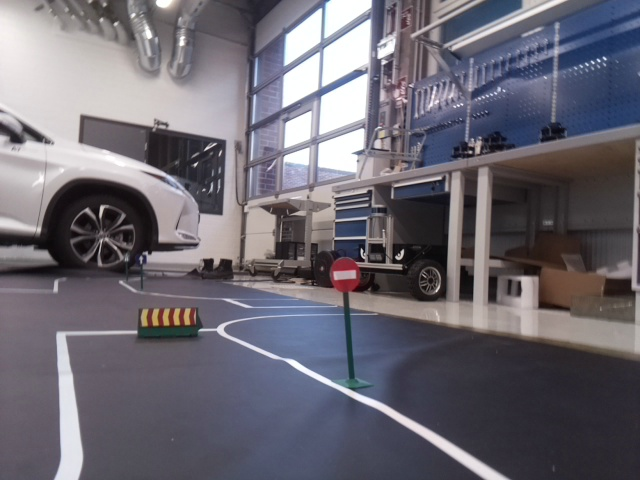ClosedRoadStand: (135, 306, 198, 327)
NoEntry: (330, 258, 359, 290)
